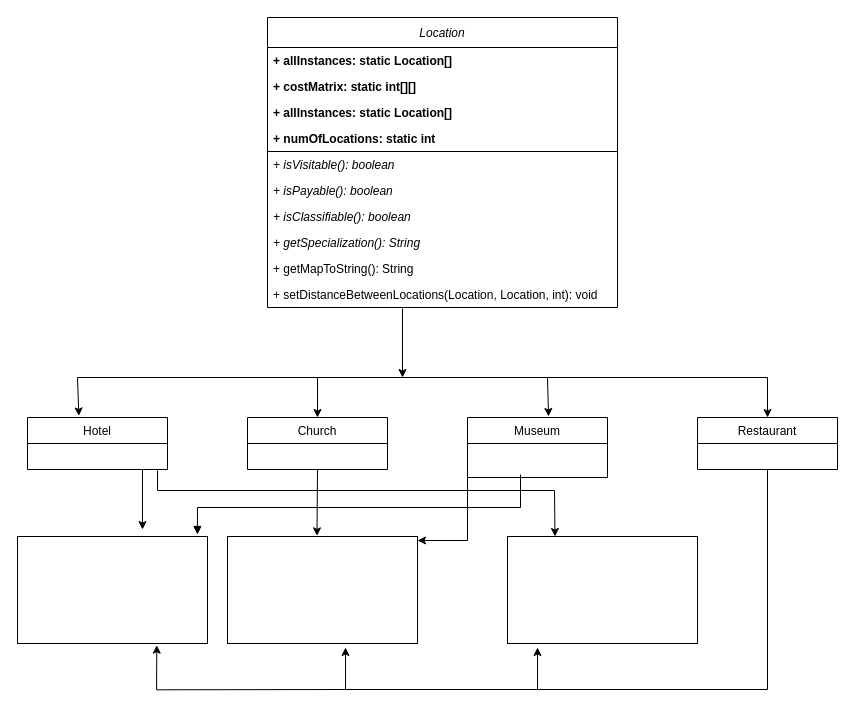
This 855x716 diagram has some shape labels left out. The centre of each missing label's shape, as x and y in pixels:
<<Interface>> Classifiable + setRank(int): void + getRank(): float: pixel 602 590
<<Interface>> Payable + setFee(float): void + getFee(): float: pixel 112 590
<<Interface>> Visitable + getProgram(): Program + setProgram(Program): void: pixel 322 590
